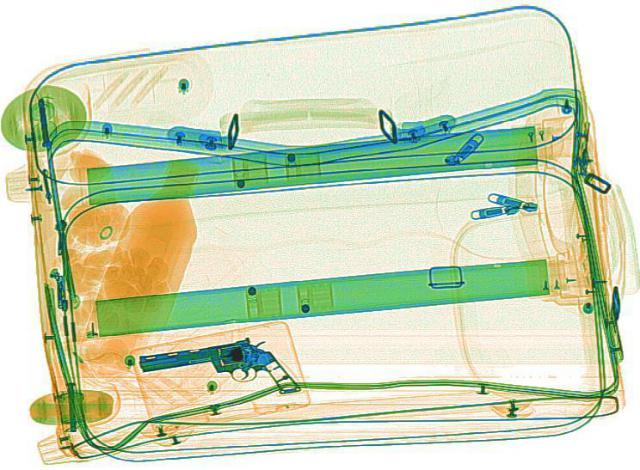Gun: (129, 330, 303, 417)
